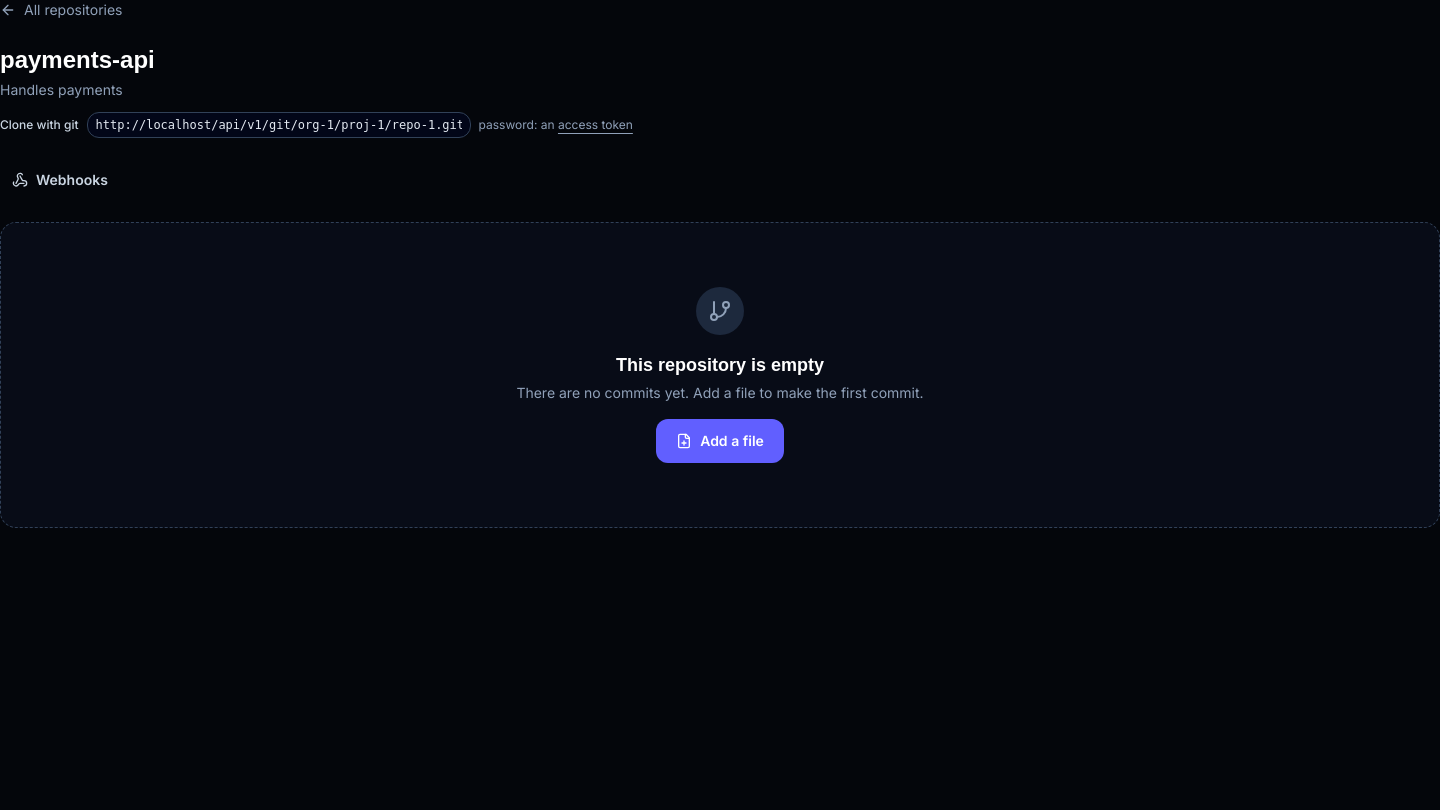
Test: RepositoryBrowserPage › will not commit without a path and a message
This screenshot has width=1440, height=810.
Click the button "Add a file".
click(720, 441)  # box 656,419 -> 784,463
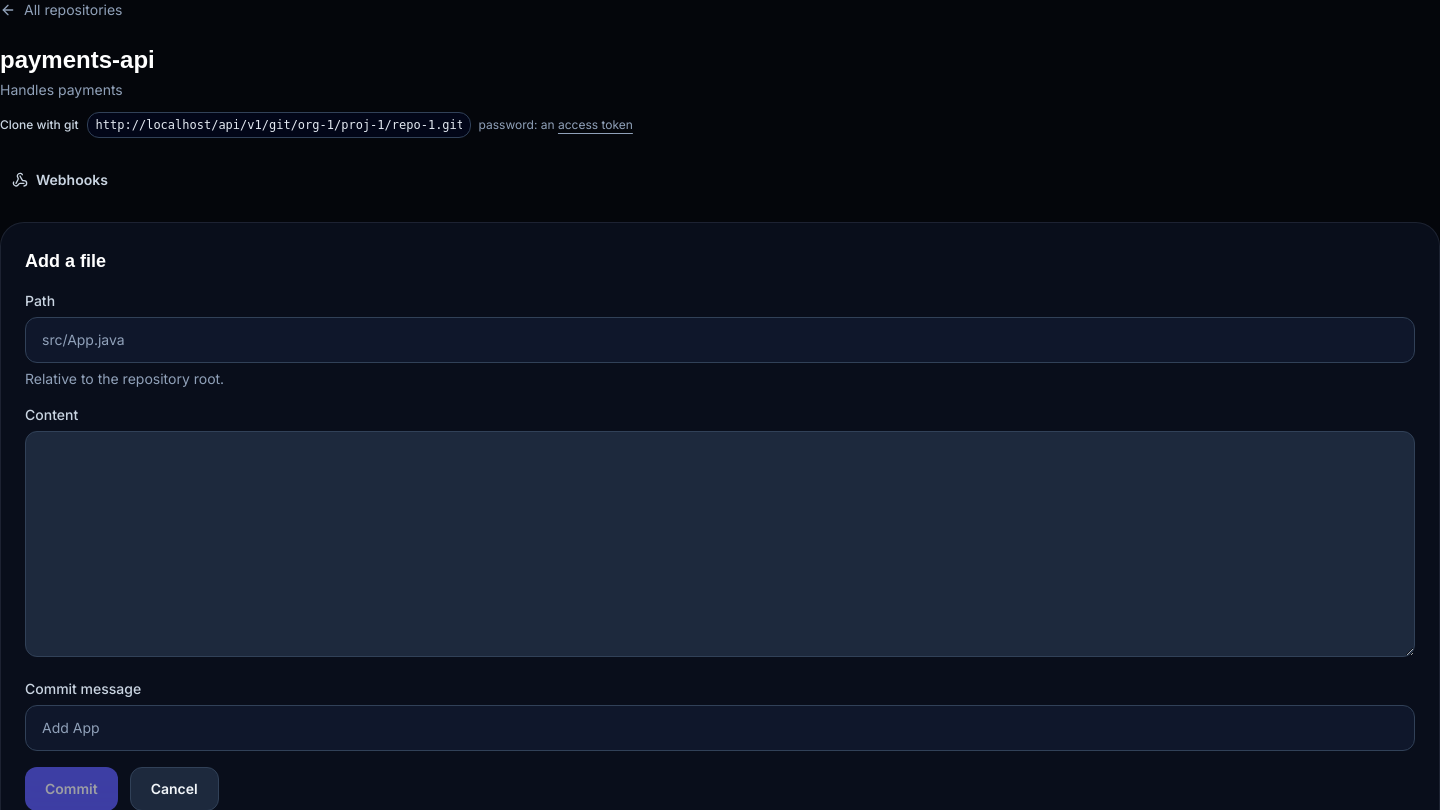
expect the button "Commit" is disabled: met, box 25,767 -> 118,809
Type "a.txt" into the field labelled "Path".
click(720, 340); type("a.txt")  # box 25,317 -> 1415,363
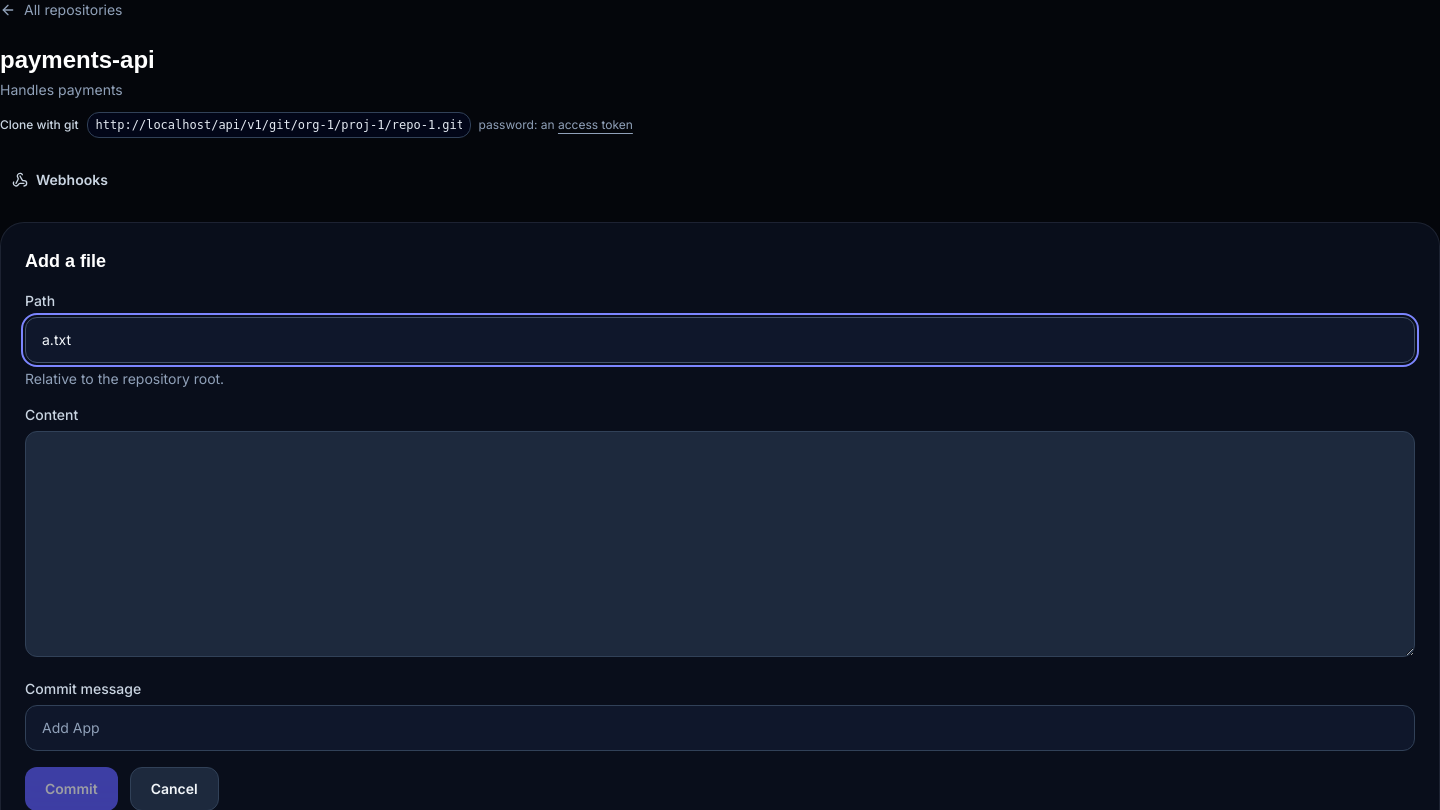
expect the button "Commit" is disabled: met, box 25,767 -> 118,809
Type "Add a.txt" into the field labelled "Commit message".
click(720, 728); type("Add a.txt")  # box 25,705 -> 1415,751
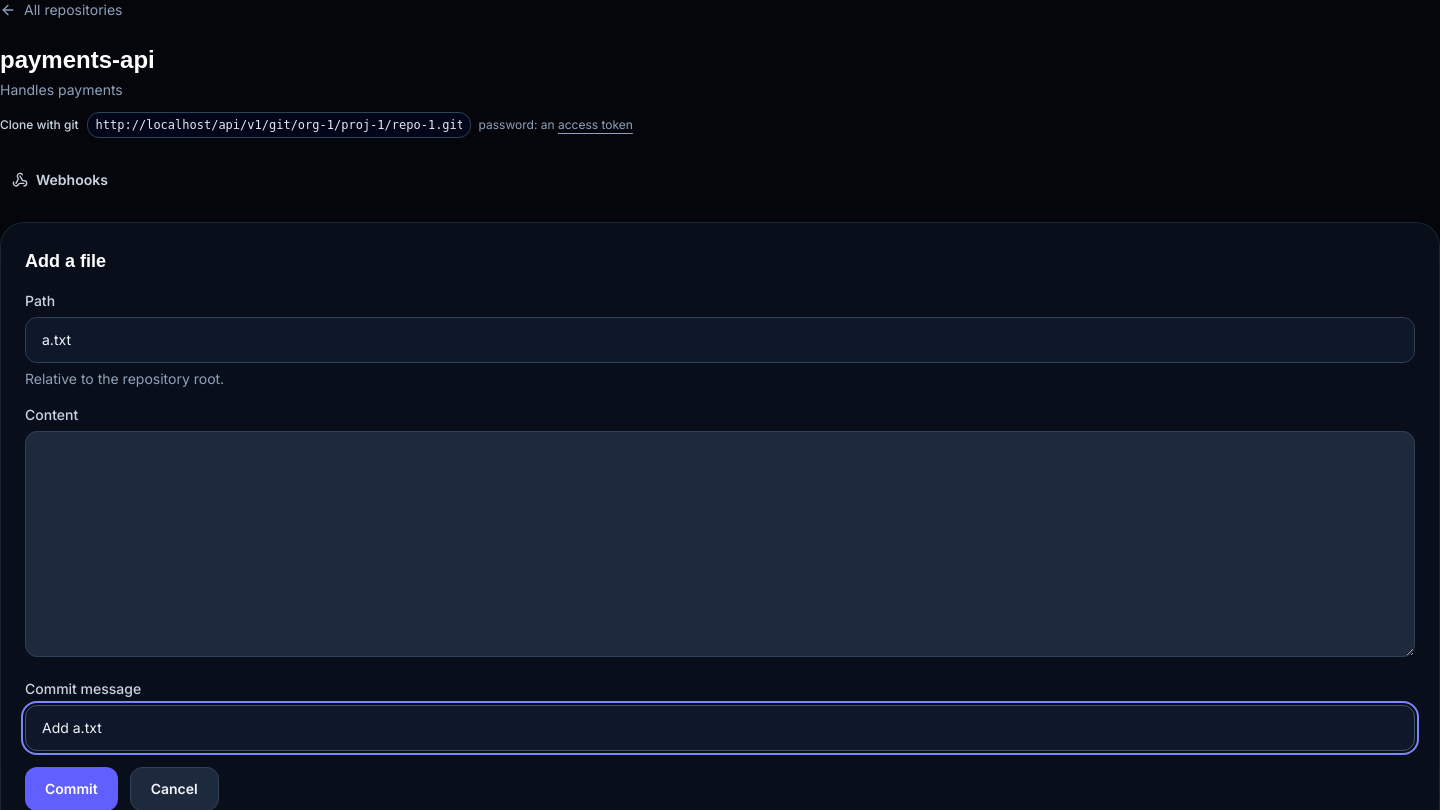
expect the button "Commit" is enabled: met, box 25,767 -> 118,809
